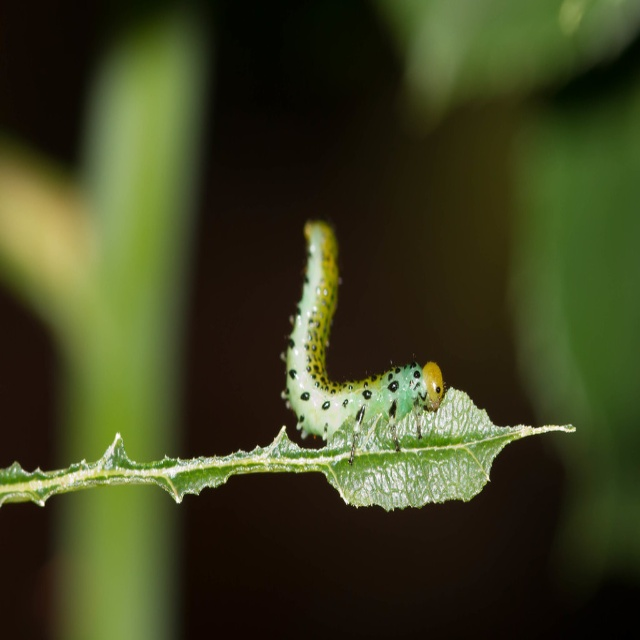Caterpillar: (273, 219, 460, 457)
